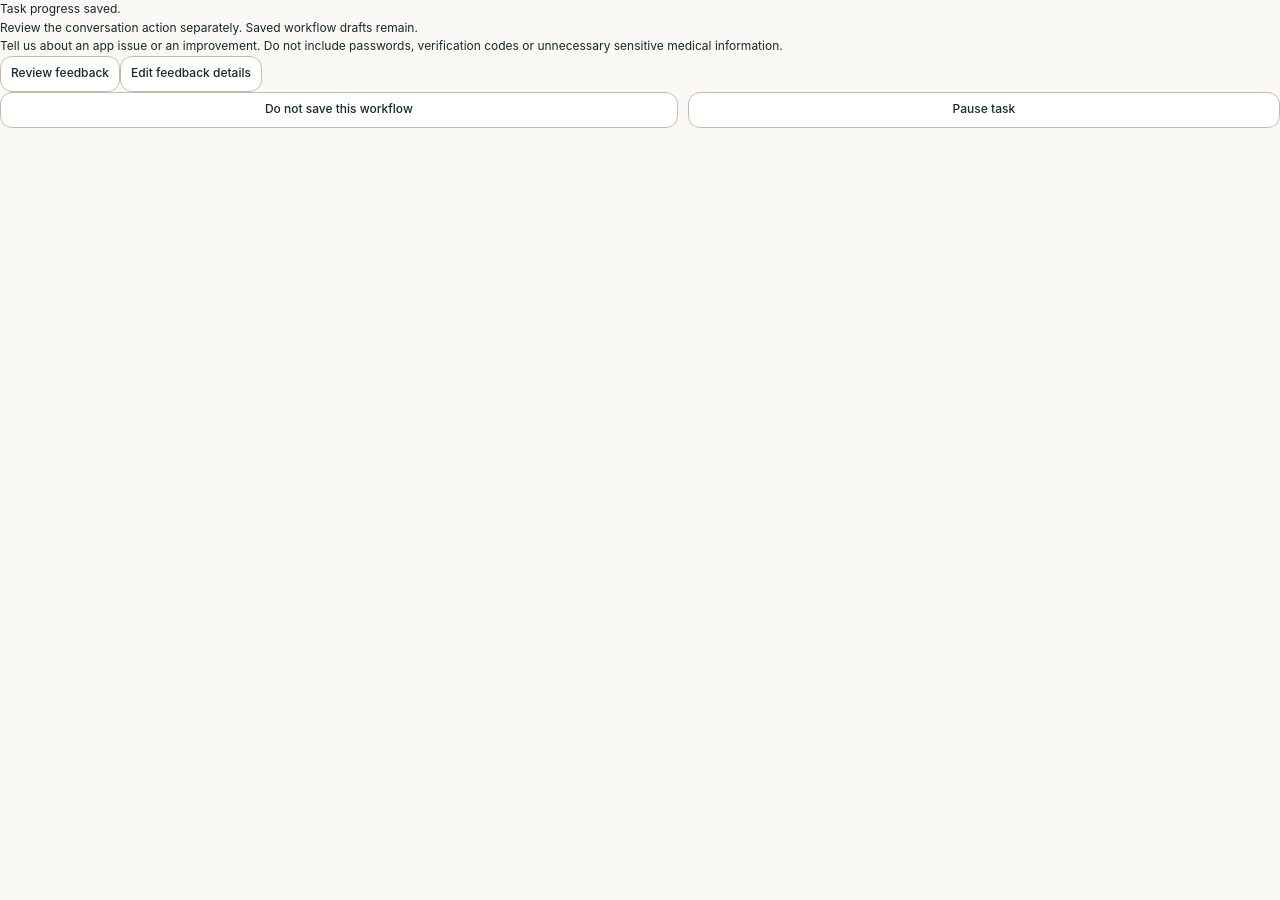
Test: submits feedback only after independent review and retains the draft on native failure
Click the button "Review feedback". click: [60, 74]
box: [0,56,120,92]
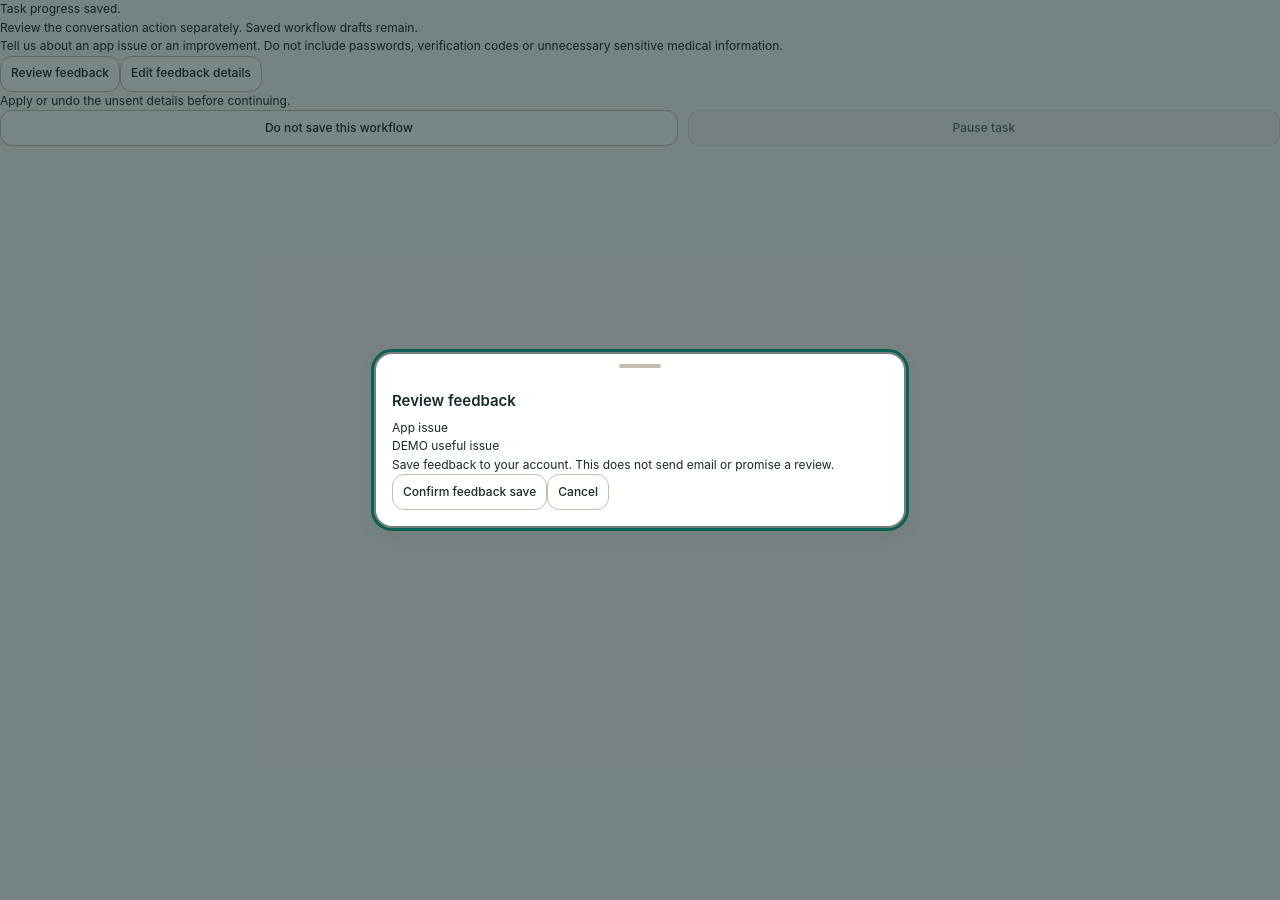
Click the button "Confirm feedback save". click: [470, 492]
box: [392,474,547,510]
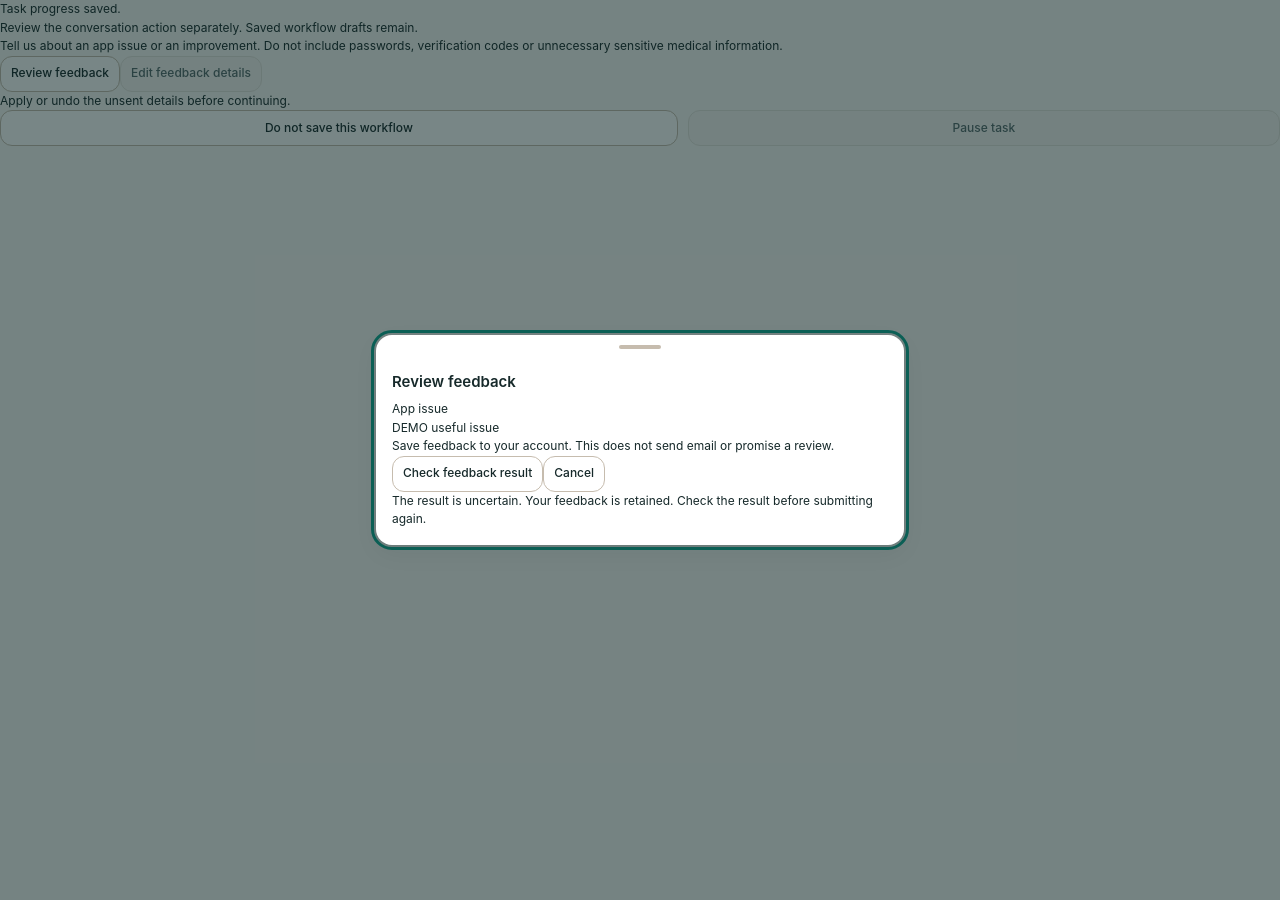
Expected: the dialog shows "DEMO useful issue", [392,420,499,435]
Expected: the message is shown, [392,492,888,529]
